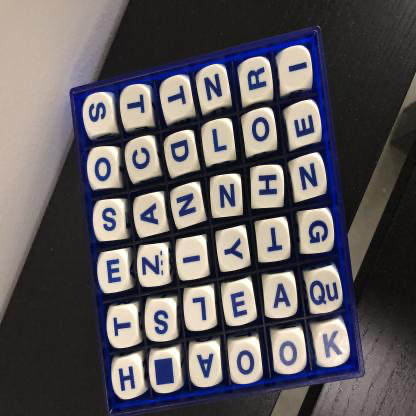a: (266, 275, 297, 317), (191, 346, 222, 386), (137, 197, 164, 235)
c: (127, 140, 157, 178)
d: (167, 135, 196, 173)
e: (223, 284, 255, 325), (289, 105, 321, 142), (101, 253, 128, 289)
g: (302, 211, 333, 254)
h: (252, 167, 284, 207), (113, 360, 143, 396)
i: (281, 49, 313, 89), (179, 241, 207, 278)
k: (316, 324, 349, 364)
l: (185, 290, 216, 330), (204, 122, 234, 161)
n: (198, 68, 230, 106), (295, 158, 325, 197), (213, 176, 242, 215), (174, 187, 203, 225)
o: (275, 331, 307, 374), (246, 111, 276, 153), (231, 344, 261, 382), (89, 148, 117, 186)
qu: (308, 273, 342, 313)
r: (242, 60, 272, 99)
s: (146, 303, 176, 341), (95, 203, 123, 242), (86, 97, 115, 131)
t: (259, 221, 289, 260), (120, 90, 150, 127), (109, 308, 136, 345), (164, 79, 191, 115)
wild: (150, 352, 180, 391)
y: (220, 232, 248, 270)
z: (139, 248, 169, 285)
